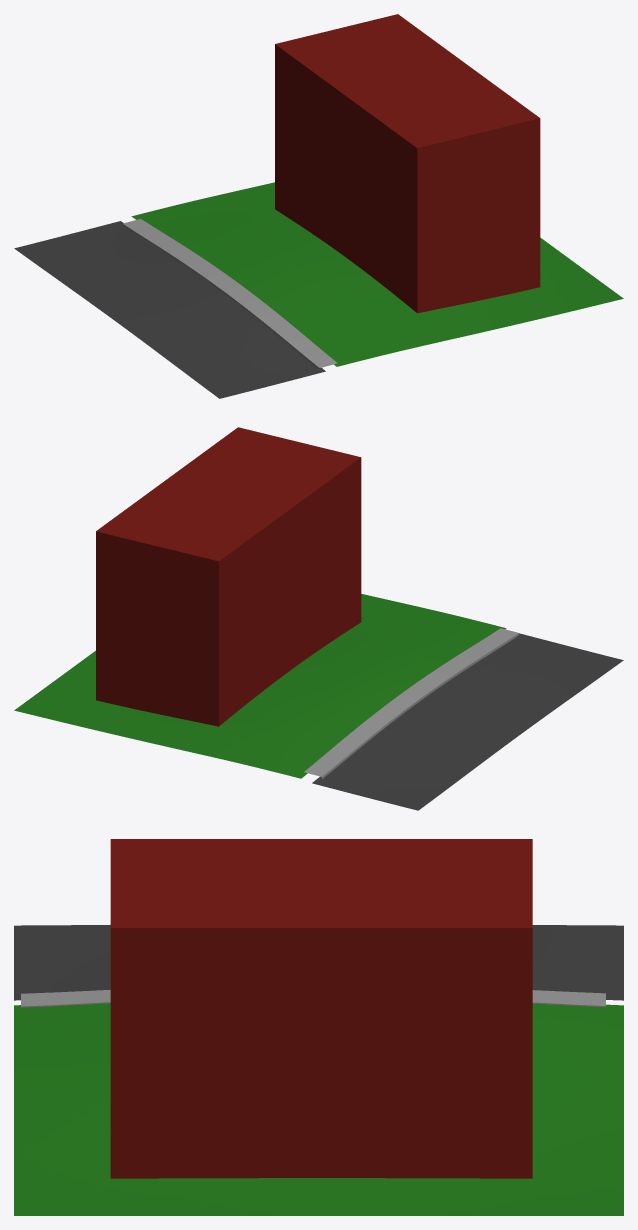
The model's file is demo_terrain.fbx.
3 views of the same model, one above another, from view 1: azimuth 30°, elevation 25°; view 2: azimuth 150°, elevation 25°; view 3: azimuth 270°, elevation 25° (orthographic). The views are drawn at different scales.
Parts seen in each view (by area): view 1: Building, Road, GrassAllowed, GrassForbidden, Sidewalk; view 2: Building, Road, GrassAllowed, GrassForbidden, Sidewalk; view 3: Building, GrassForbidden, Road, GrassAllowed, Sidewalk.
Part boxes in pixels (x1,y1,x2,y2): Building: (275,14,540,313); Road: (14,221,325,398); GrassAllowed: (131,195,422,366); GrassForbidden: (218,182,623,345); Sidewalk: (122,219,337,369); Building: (96,427,361,726); Road: (312,633,623,810); GrassAllowed: (215,607,506,778); GrassForbidden: (14,594,419,757); Sidewalk: (303,628,518,778); Building: (110,839,532,1178); GrassForbidden: (14,1063,623,1215); Road: (14,924,623,1000); GrassAllowed: (14,1003,623,1067); Sidewalk: (21,989,605,1007).
Size of the model in its own units: 4198 by 1793 by 3697.
